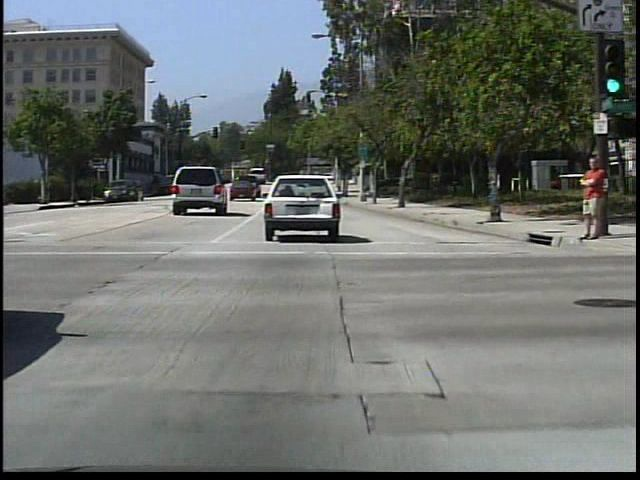person: (573, 154, 606, 245)
